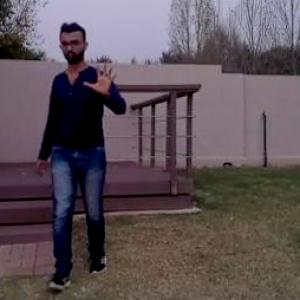follow_hand: (83, 52, 123, 99)
